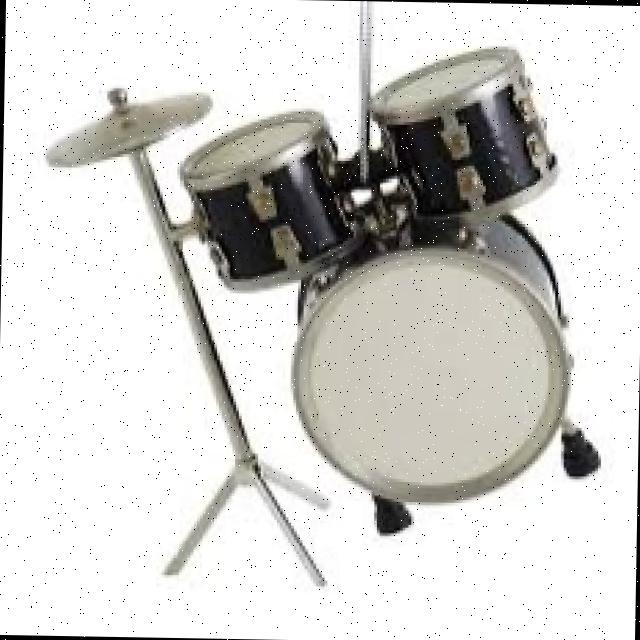drums: (57, 23, 614, 530)
